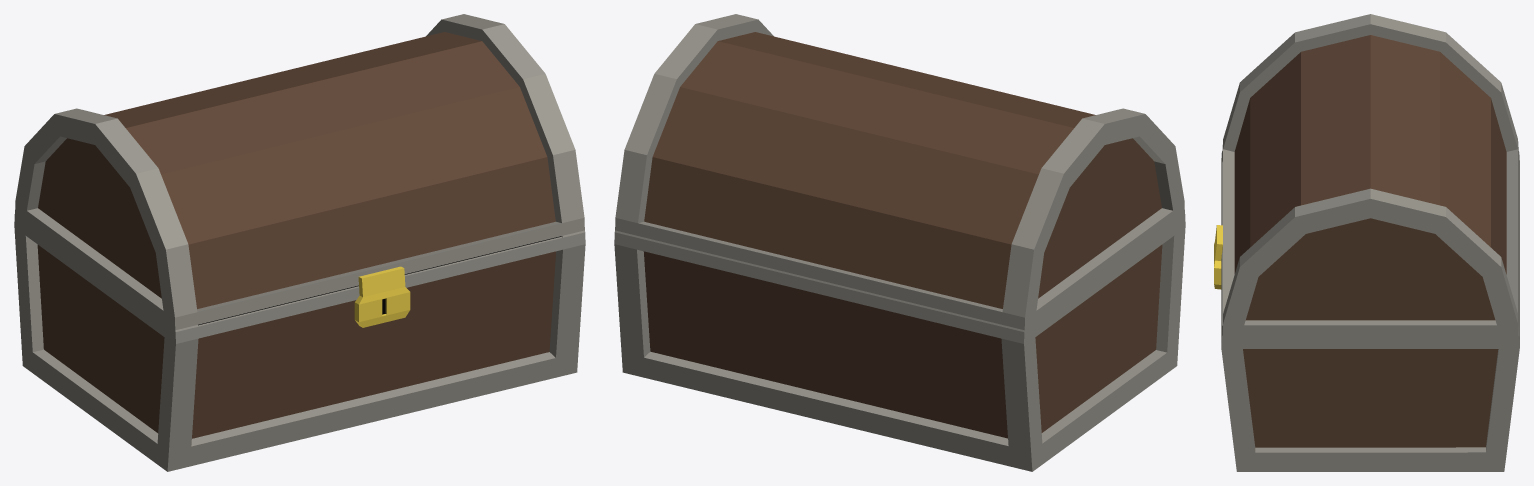
The model's file is chestTa.fbx.
The picture shows the model from 3 angles, left to right: view 1: azimuth 30°, elevation 25°; view 2: azimuth 150°, elevation 25°; view 3: azimuth 270°, elevation 25°; orthographic projection. The views are drawn at different scales.
Visible parts, largest first — view 1: Cylinder; view 2: Cylinder; view 3: Cylinder.
Boxes of the visible parts, left/top/right/bottom form: Cylinder: left=14, top=14, right=585, bottom=471; Cylinder: left=614, top=14, right=1185, bottom=471; Cylinder: left=1214, top=14, right=1519, bottom=471.
Size of the model in its own units: 2.9 by 2 by 2.03.
